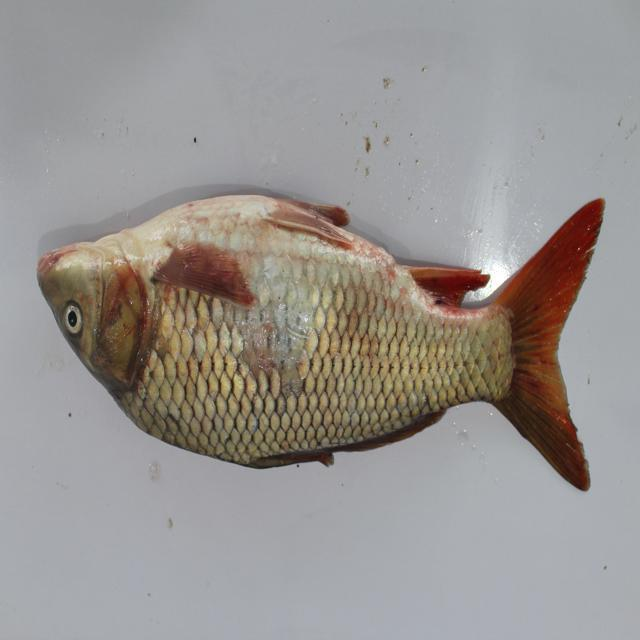CommonCarp: (34, 179, 614, 500)
